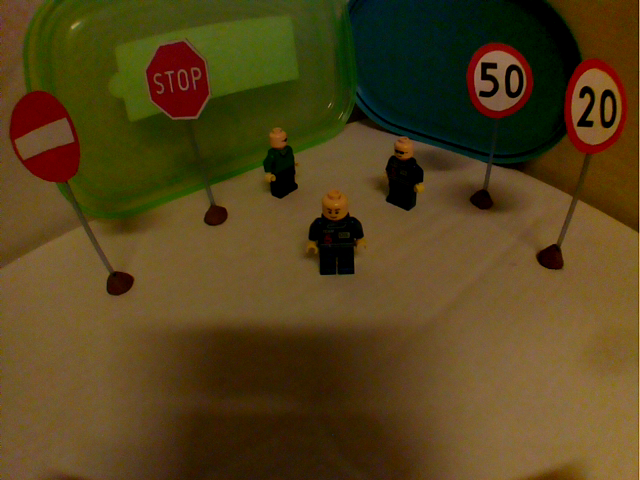Ograniczenie 20: (560, 54, 631, 159)
Ograniczenie 50: (461, 39, 536, 121)
Postac LEGO: (303, 188, 369, 284), (379, 130, 427, 217), (260, 125, 302, 203)
Stop: (141, 35, 215, 124)
Zakaz: (6, 88, 84, 189)
